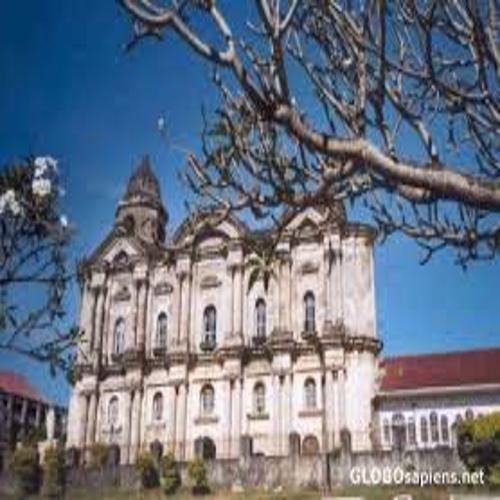Taal Basilica Church: (64, 140, 392, 470)
